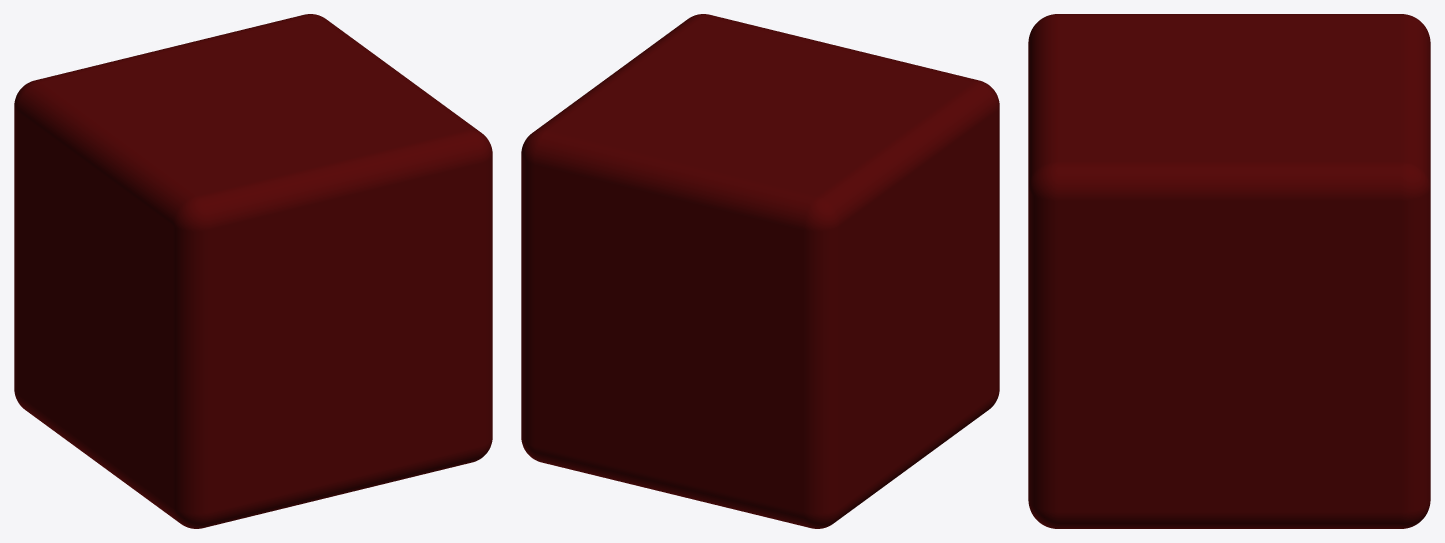
Rendered from BombButton.obj.
3 views of the same model, side by side, from view 1: azimuth 30°, elevation 25°; view 2: azimuth 150°, elevation 25°; view 3: azimuth 270°, elevation 25° (orthographic). The views are drawn at different scales.
Visible parts, largest first — view 1: Cube; view 2: Cube; view 3: Cube.
Part boxes in pixels (x1,y1,x2,y2): Cube: (14, 14, 492, 528); Cube: (521, 14, 999, 528); Cube: (1028, 14, 1430, 528).
Size of the model in its own units: 2 by 2 by 2.
